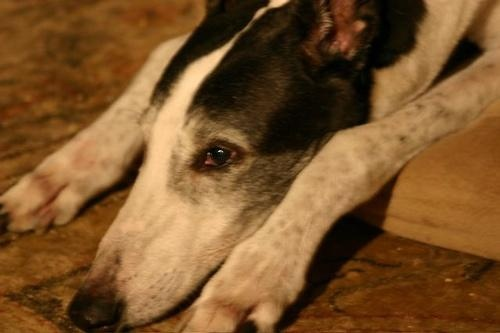dog: (2, 2, 500, 333)
